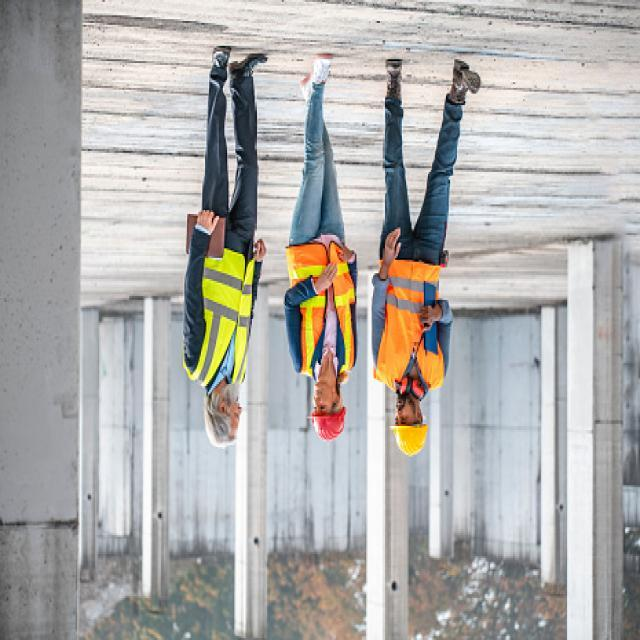boots: (379, 50, 483, 112)
helmet: (388, 387, 430, 460), (308, 378, 348, 442)
vest: (179, 235, 261, 391), (368, 255, 450, 399), (283, 236, 358, 387)
